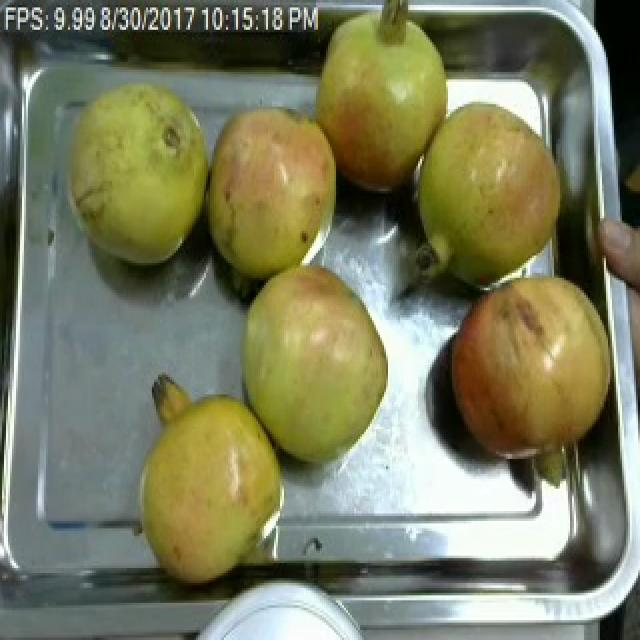fruit: (442, 263, 620, 496), (122, 370, 296, 595), (230, 250, 398, 472), (402, 86, 572, 302), (50, 67, 216, 280), (304, 2, 462, 208), (202, 91, 348, 298)
